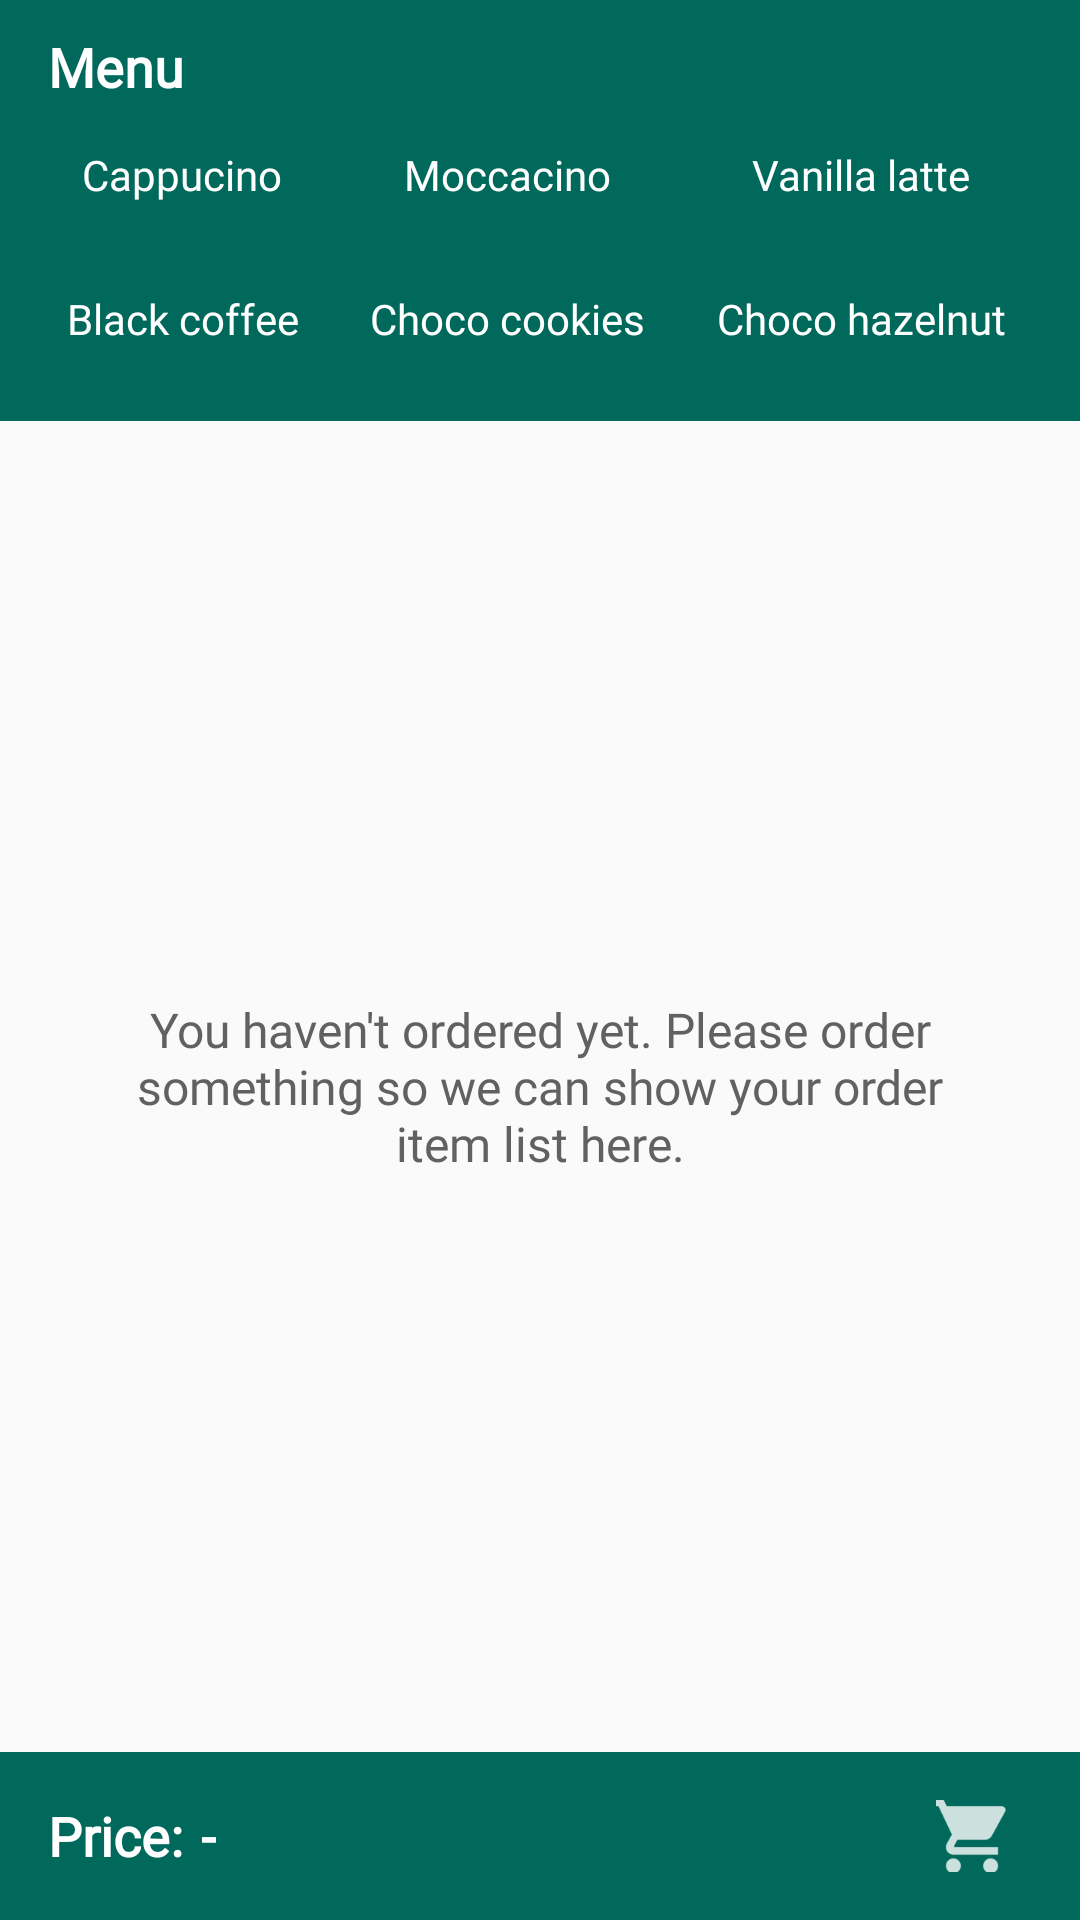

Icons on this 1080×1920 Android screen, each with the point to tap as [x,y]:
buy: [971,1836]
